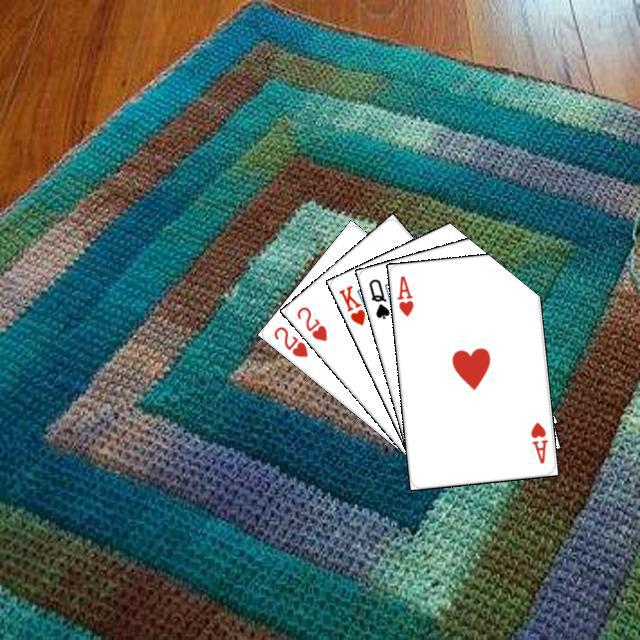2h: (269, 321, 310, 359), (292, 301, 329, 343)
Ah: (526, 417, 550, 465), (392, 271, 415, 318)
Kh: (334, 280, 376, 327)
Qs: (364, 274, 391, 321)
